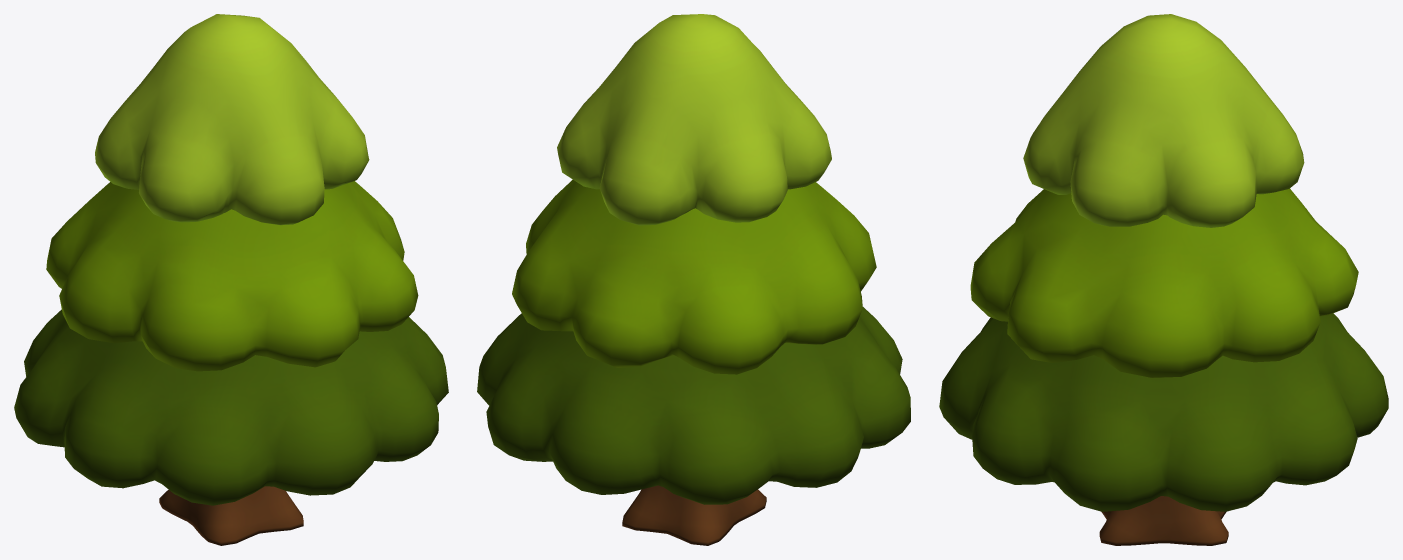
The model's file is PineTree.FBX.
3 views of the same model, side by side, from view 1: azimuth 30°, elevation 25°; view 2: azimuth 150°, elevation 25°; view 3: azimuth 270°, elevation 25° (orthographic).
Visible parts, largest first — view 1: PineTree; view 2: PineTree; view 3: PineTree.
Part boxes in pixels (x1=…): PineTree: x1=14, y1=14, x2=448, y2=545; PineTree: x1=477, y1=14, x2=910, y2=545; PineTree: x1=939, y1=14, x2=1388, y2=545.
Bounding box in the file's own units: 55.69 × 71.66 × 58.07.
Materials: 1 (1 with a texture image).
